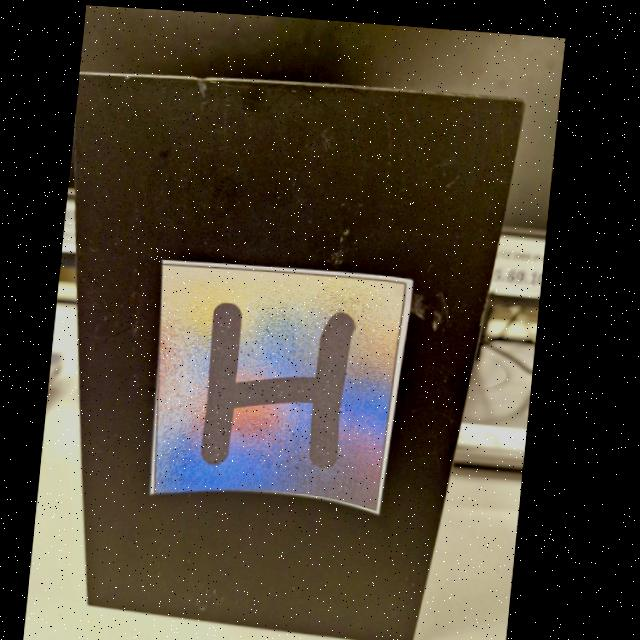H: (209, 300, 360, 463)
